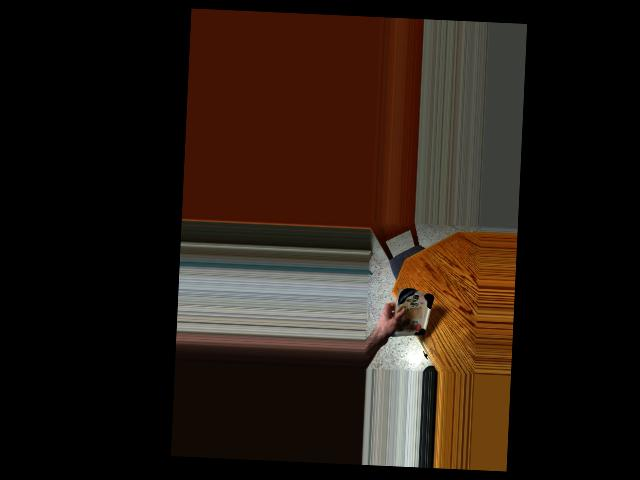cheese: (392, 284, 430, 344)
